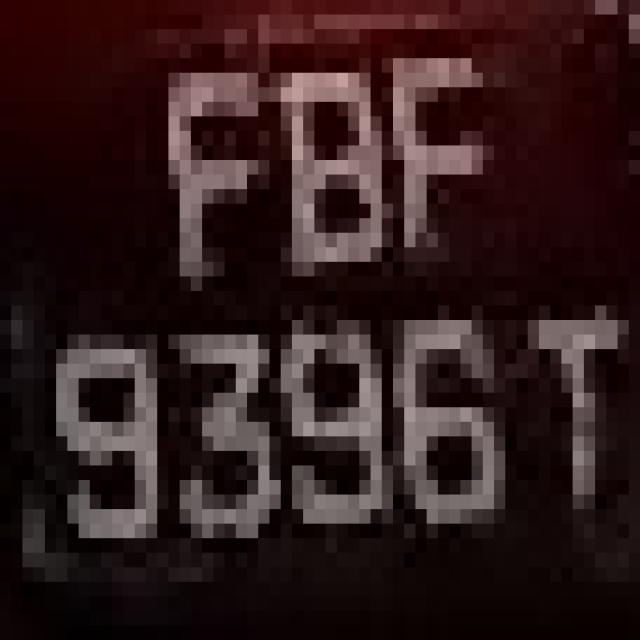3: (123, 291, 292, 582)
6: (382, 276, 505, 568)
9: (11, 335, 157, 567), (269, 306, 382, 568)
B: (258, 14, 416, 306)
F: (146, 29, 269, 335), (371, 44, 505, 291)
T: (505, 276, 629, 538)
